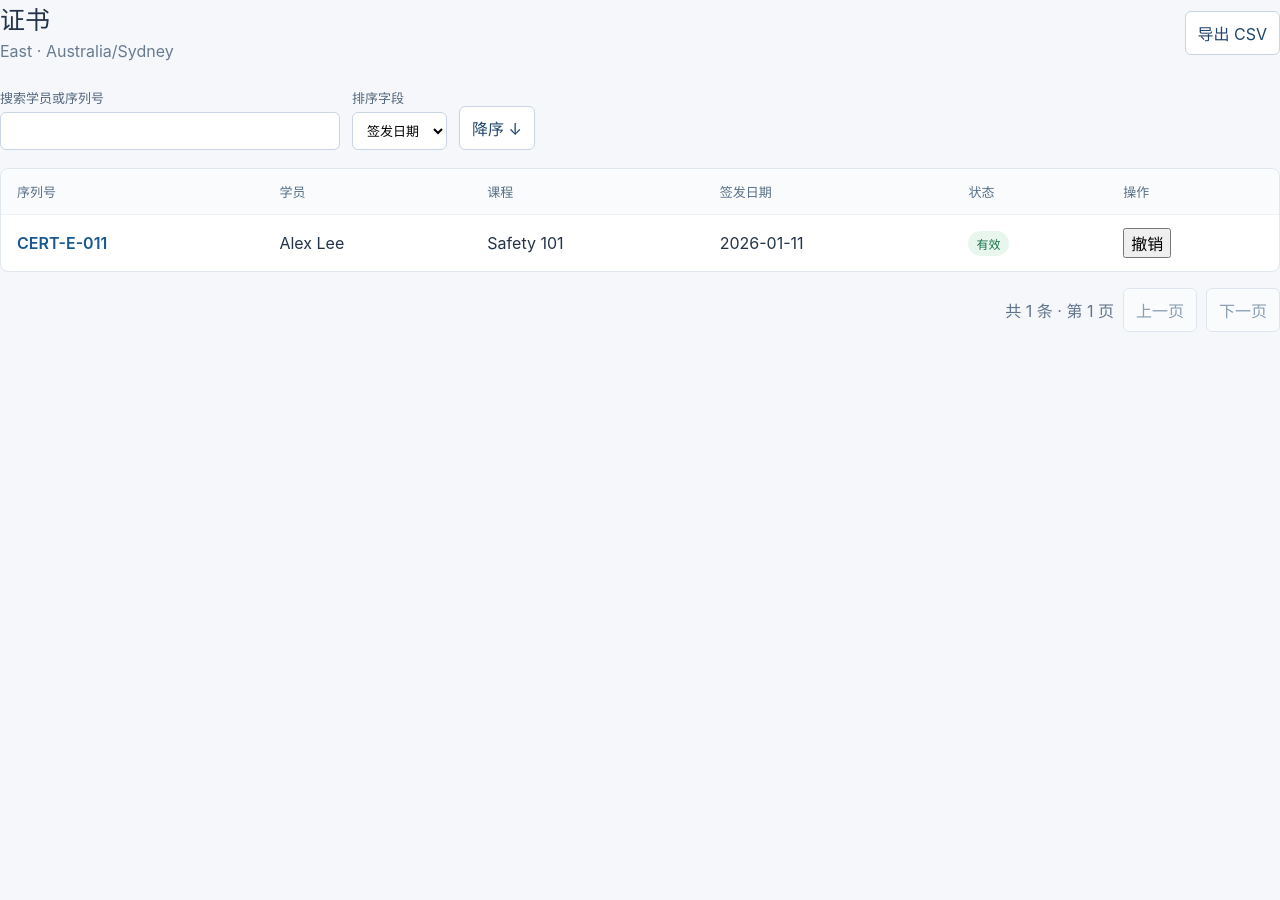
offers revocation directly from an active certificate row
Expected: the button "CERT-E-011" is shown, 17,233 -> 107,253
Click the button with aria-label "撤销证书 CERT-E-011" at [1147, 243], box 1123,228 -> 1171,258
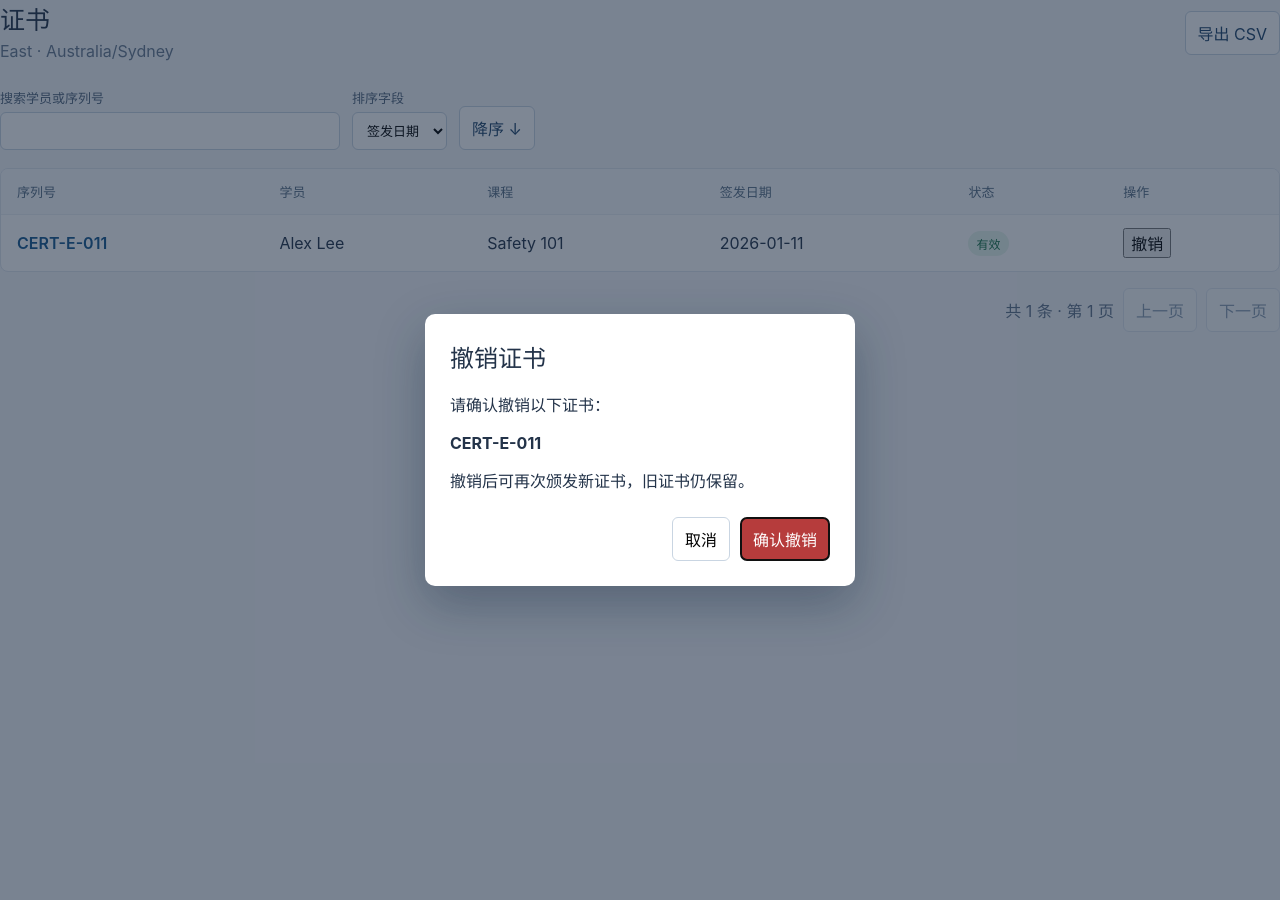
Expected: the dialog named "撤销证书确认" is shown, 425,314 -> 855,586
Click the button "确认撤销" at [785, 540], box 740,518 -> 830,562
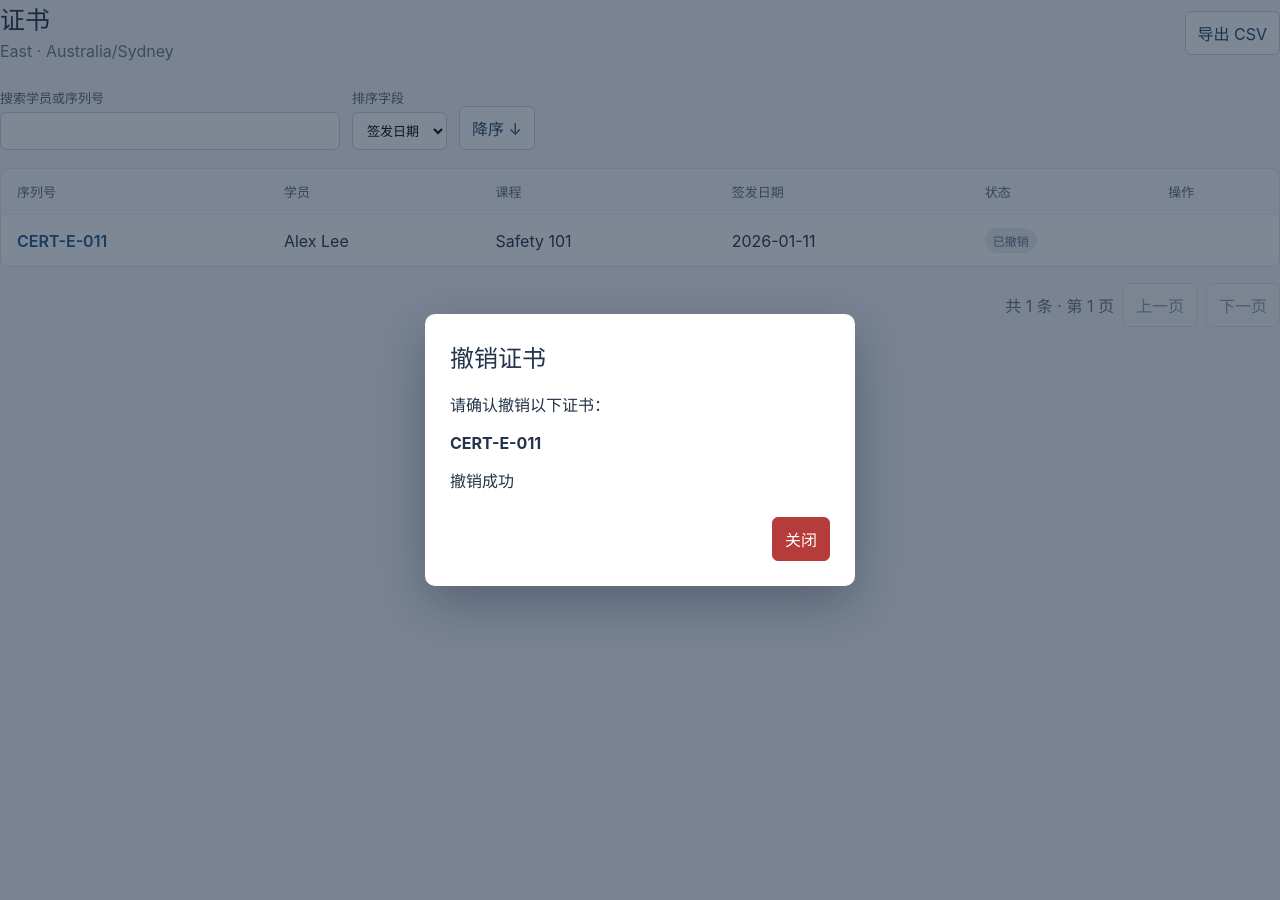
Expected: the text "撤销成功" is shown, 450,472 -> 514,492
Expected: the text "已撤销" is shown, 985,228 -> 1037,253
